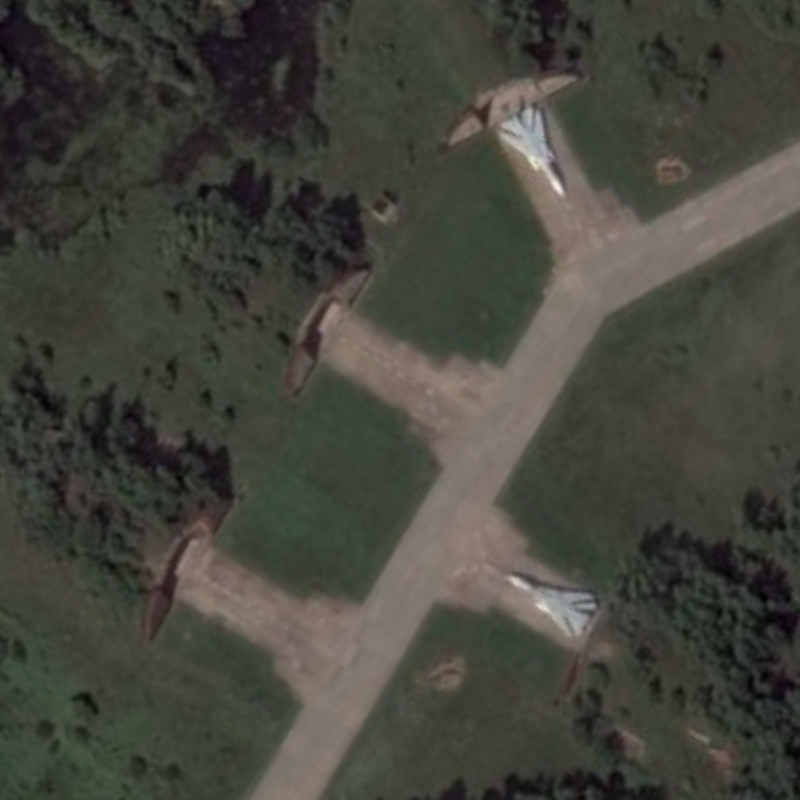A20: (498, 106, 567, 197), (506, 573, 598, 639)
